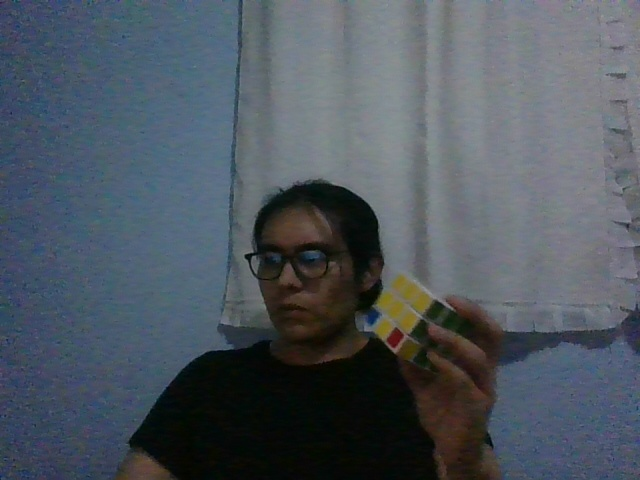rubik: (365, 271, 474, 373)
